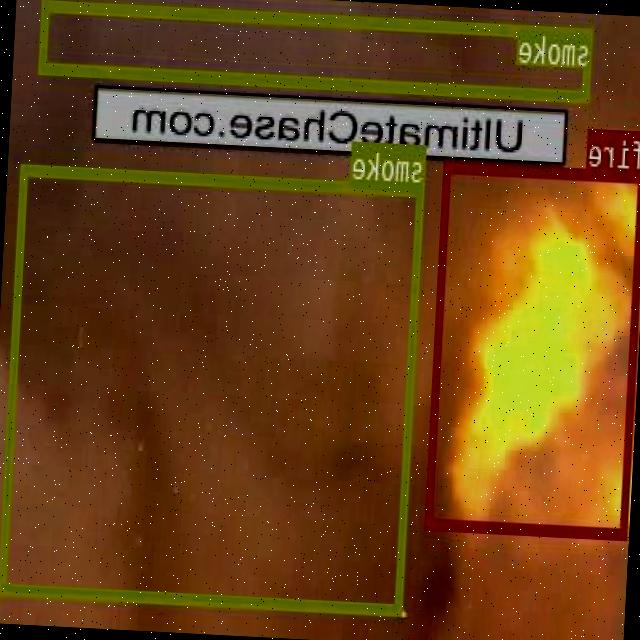fire: (427, 161, 640, 537)
smoke: (1, 163, 426, 613), (40, 0, 593, 101)
